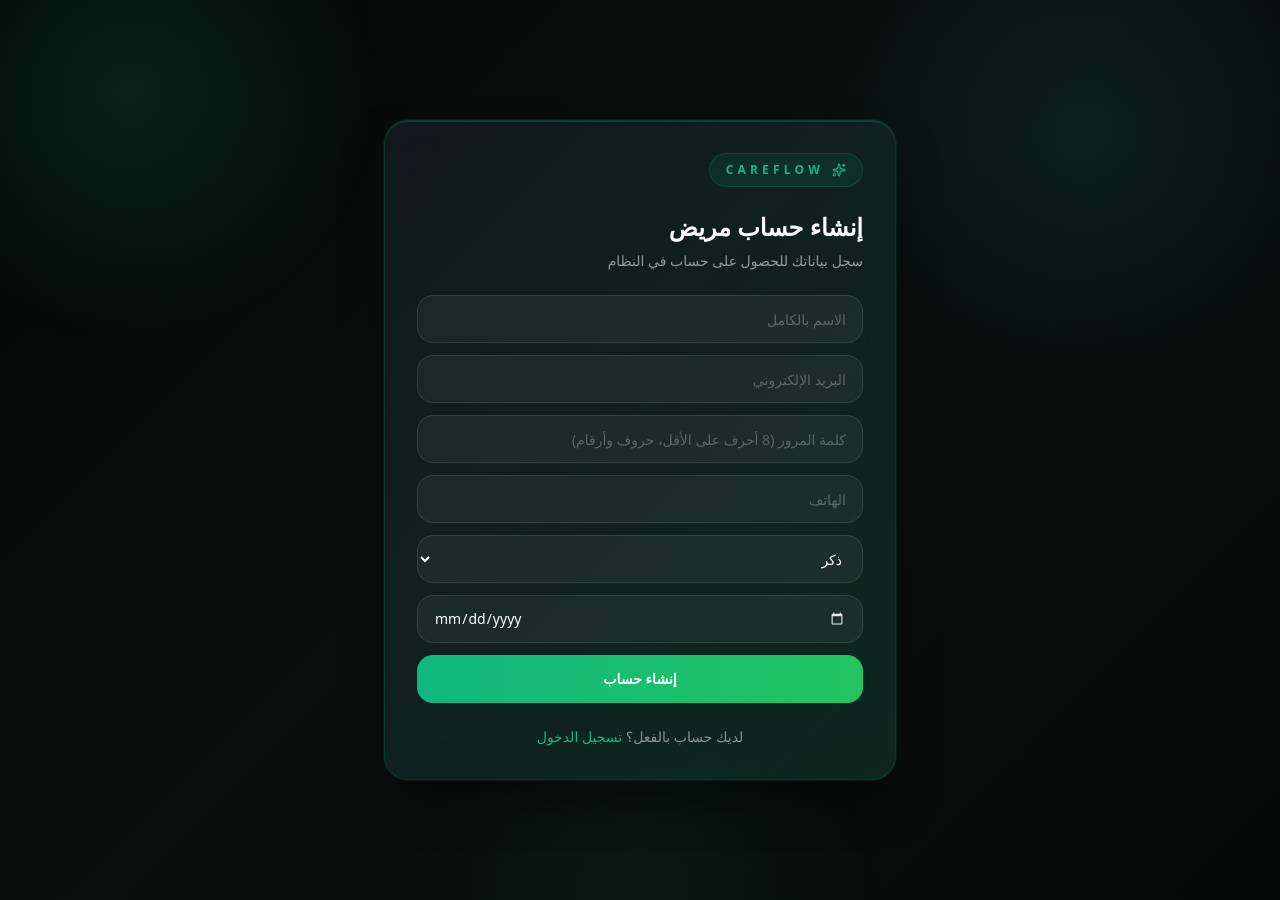
Scenario: Register Page › shows error when users table insert fails
Step 1. Type "أحمد محمد" into the field with placeholder "الاسم بالكامل" → (640,319), box [417,295,863,343]
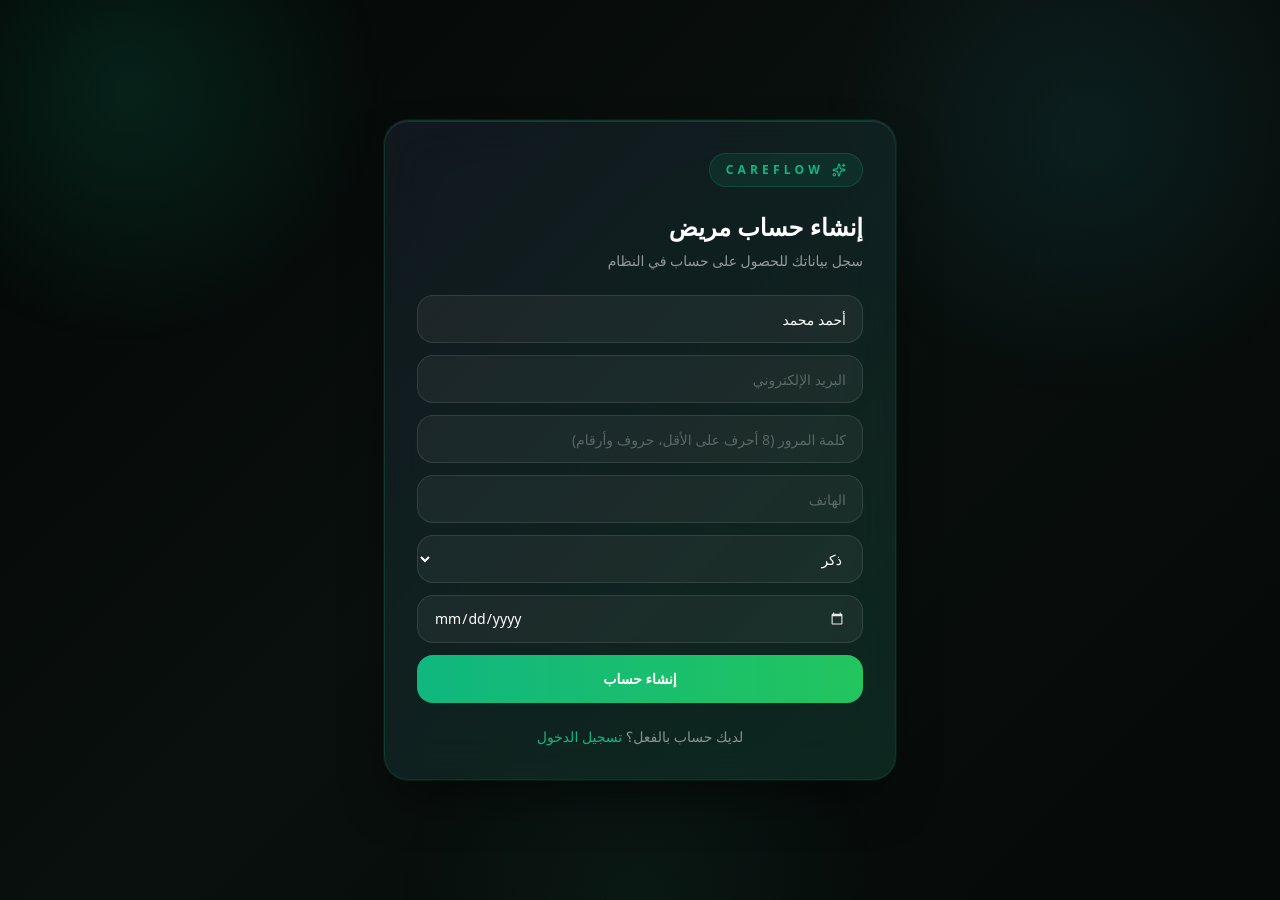
Step 2. Type "ahmed@test.com" into the field with placeholder "البريد الإلكتروني" → (640,379), box [417,355,863,403]
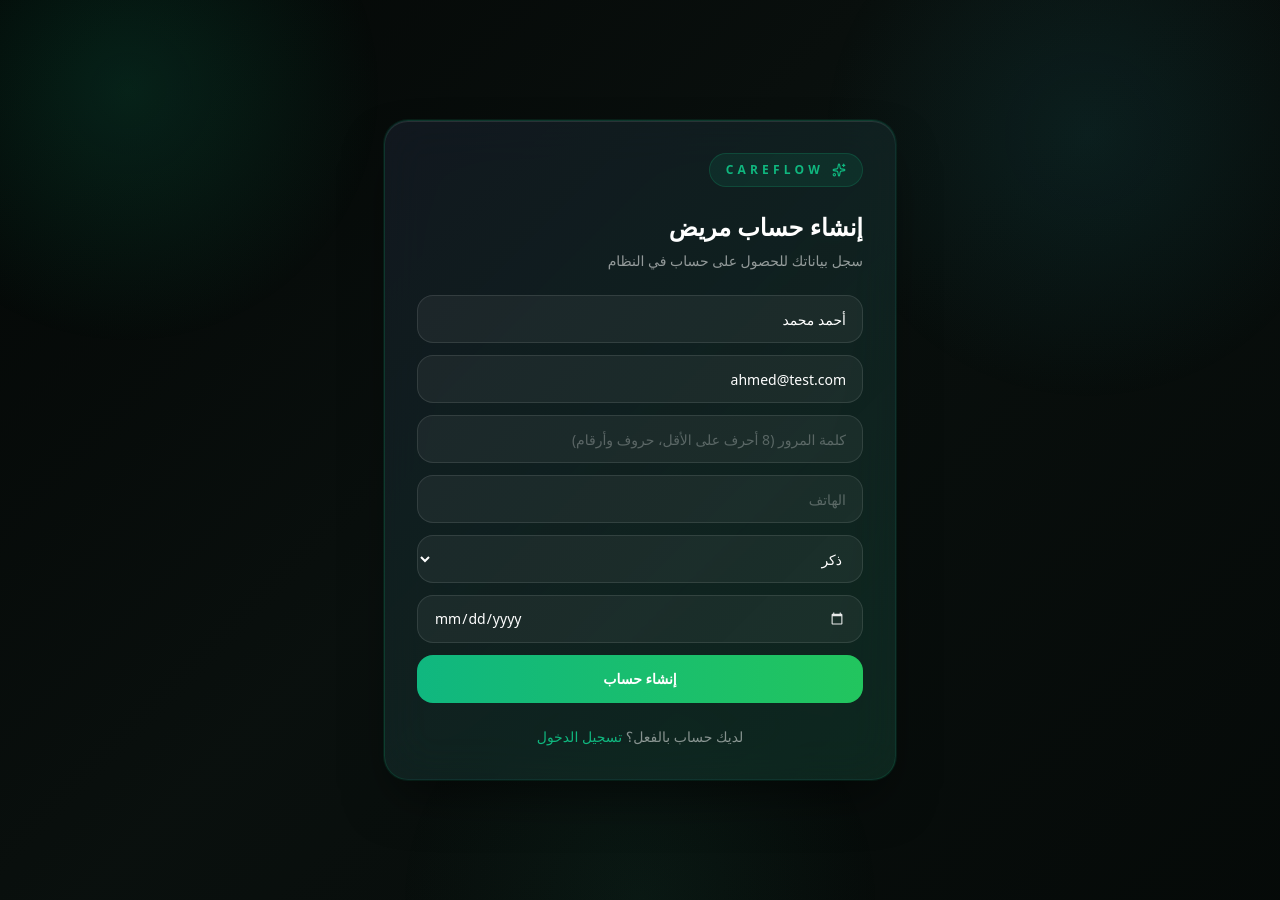
Step 3. Type "password123" into the password field with placeholder "كلمة المرور (8 أحرف على الأقل، حروف وأرقام)" → (640,439), box [417,415,863,463]
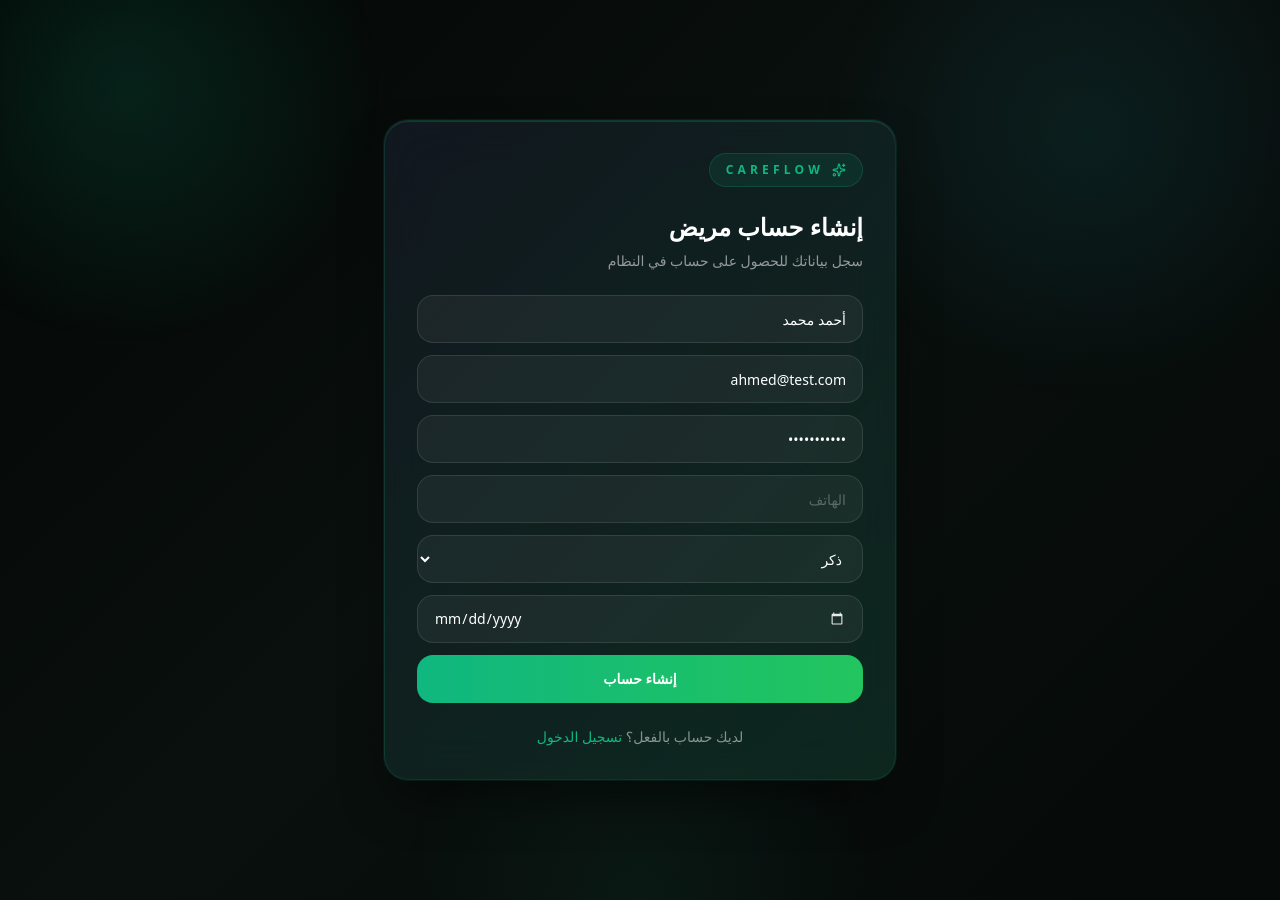
Step 4. Type "0501234567" into the field with placeholder "الهاتف" → (640,499), box [417,475,863,523]
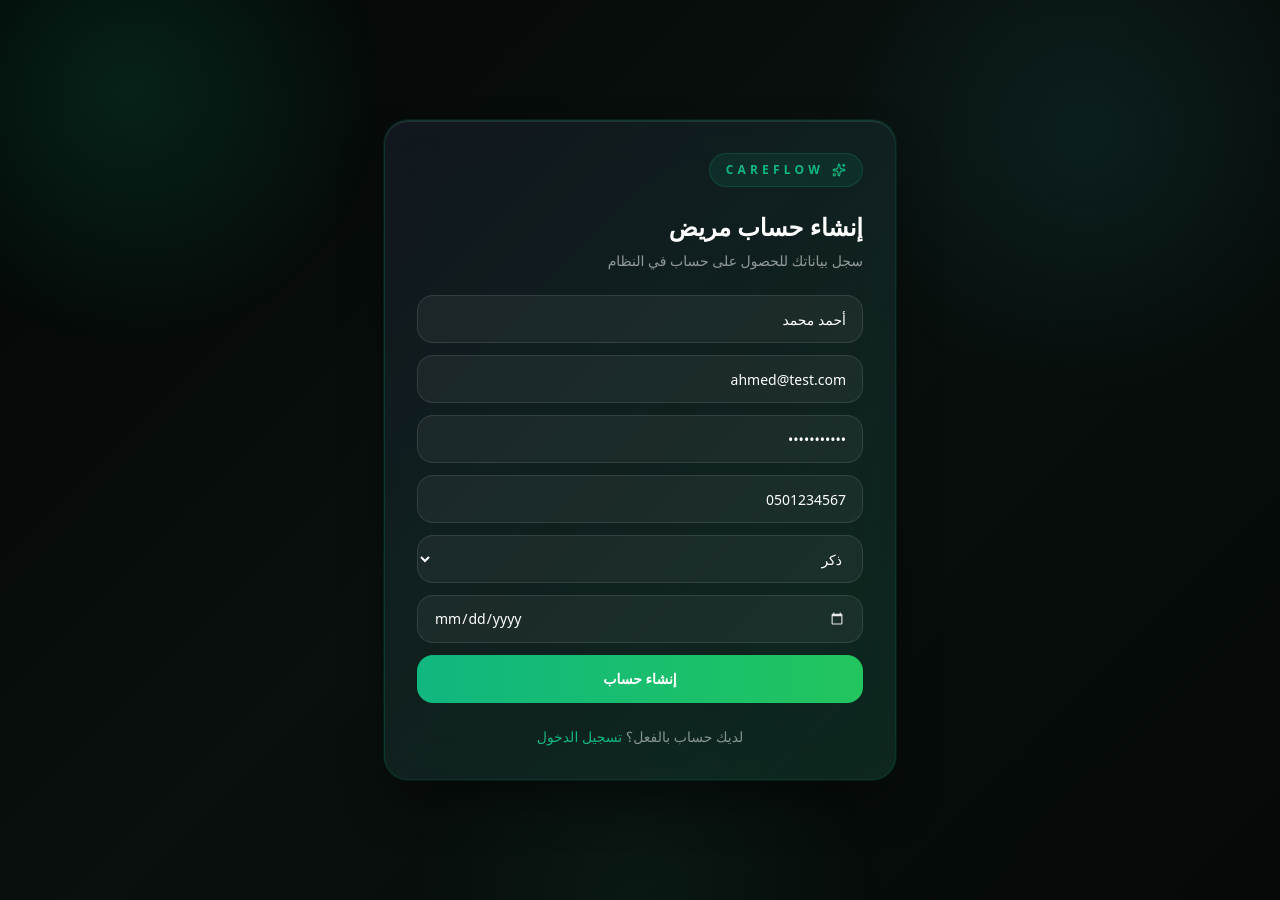
Step 5. Type "1990-01-15" into the date field → (640,619), box [417,595,863,643]
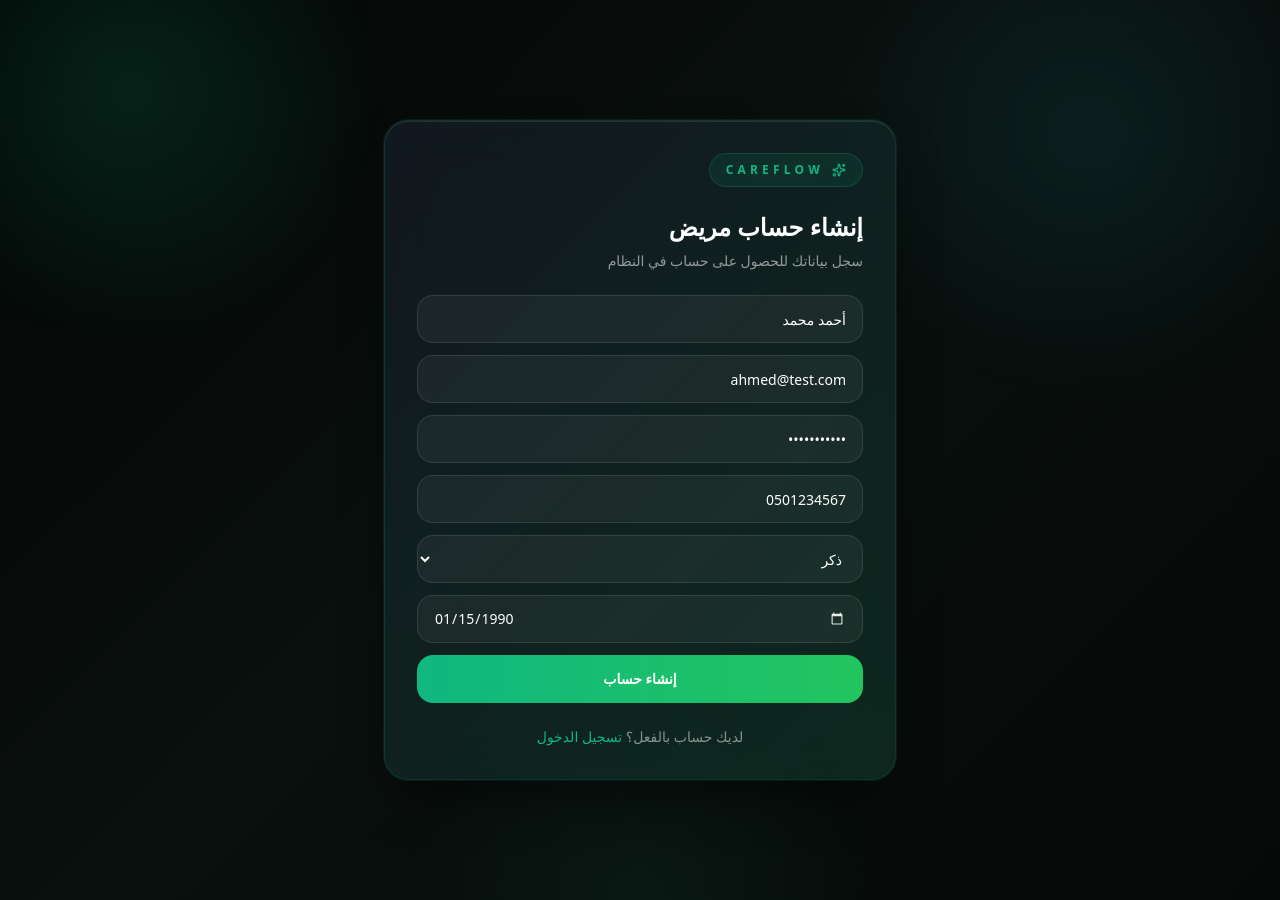
Step 6. Click the button "إنشاء حساب" → (640,679), box [417,655,863,703]
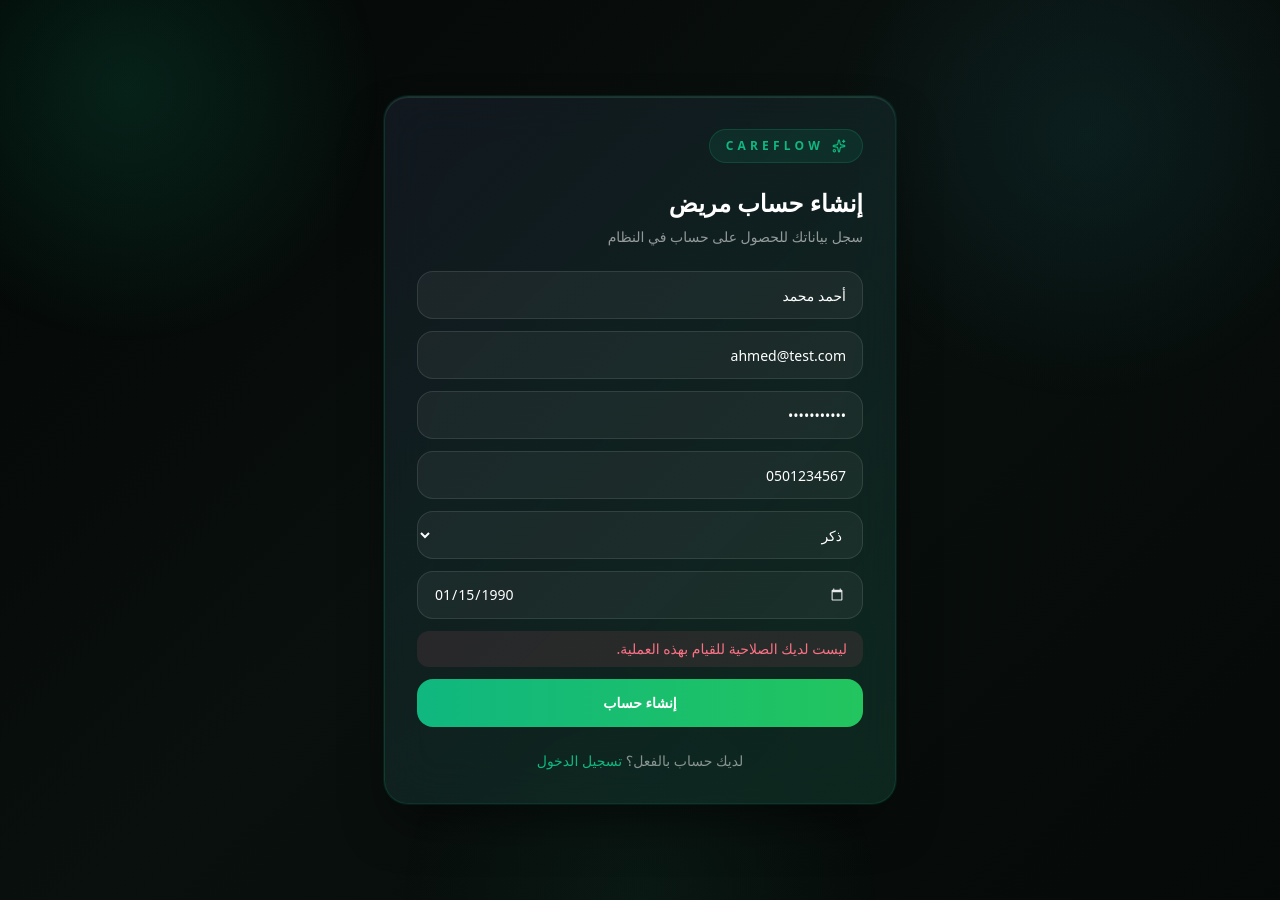
Result: the text "ليست لديك الصلاحية للقيام بهذه العملية." is shown at [417,631,863,667]
